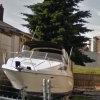Boat: (2, 43, 78, 95)
